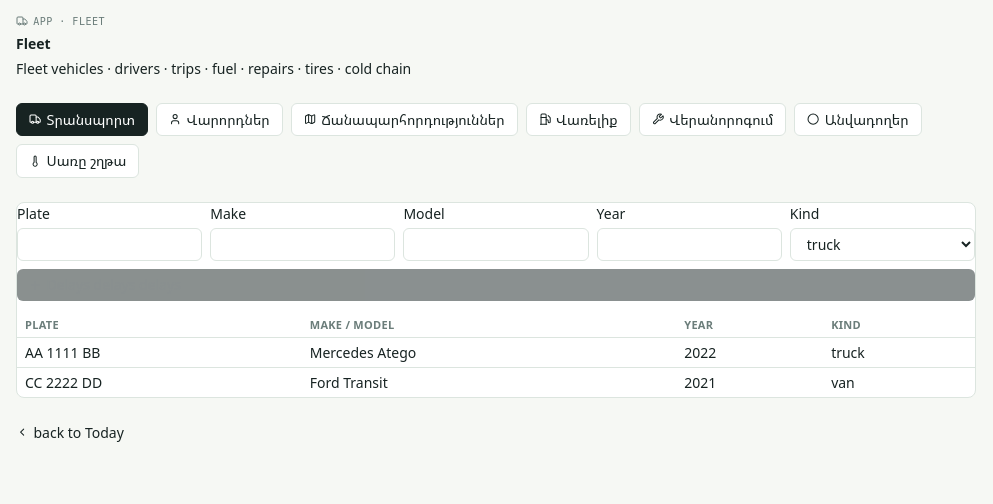
Scenario: Fleet — tab switching › clicking the fuel tab reveals the fleet-fuel-panel panel
The width and height of the screenshot is (993, 504).
Click the tab with test id "fleet-tab-fuel".
click(578, 119)  # box [526, 102, 631, 136]
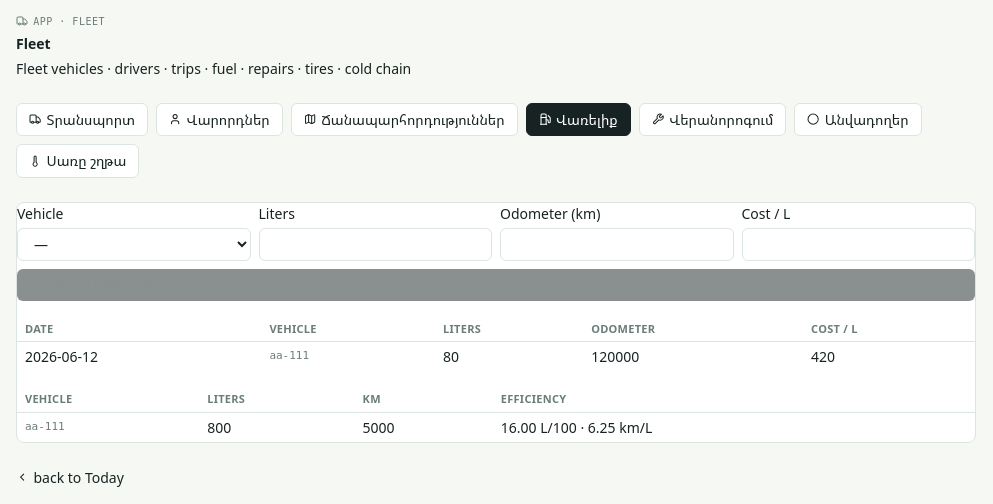
Now the element with test id "fleet-fuel-panel" is shown, box [16, 202, 976, 442]
